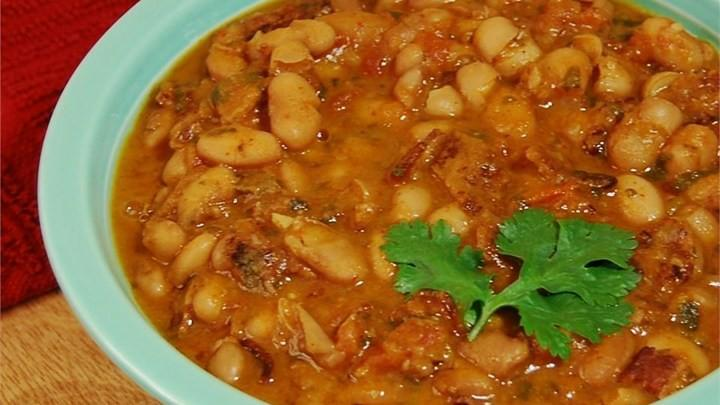RajmaCurry: (113, 0, 720, 405)
